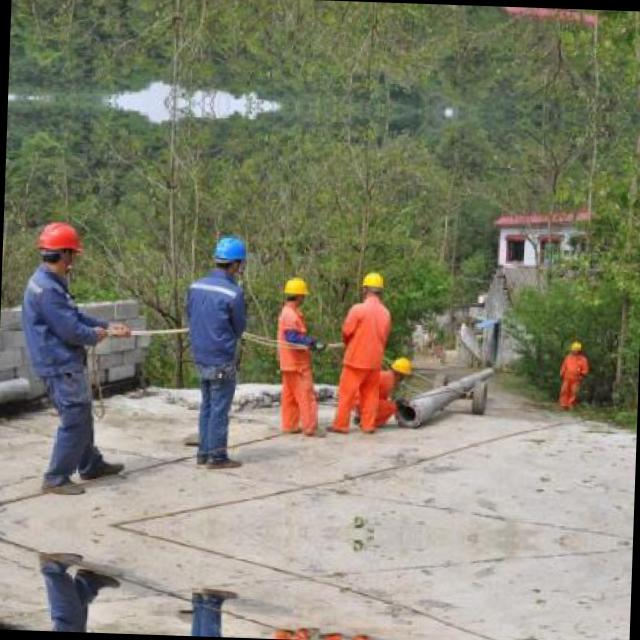helmet: (32, 216, 84, 274), (211, 231, 249, 274), (356, 267, 386, 302), (282, 272, 310, 302), (391, 350, 412, 382), (568, 336, 584, 356)
